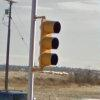Traffic light: (23, 11, 76, 74)
